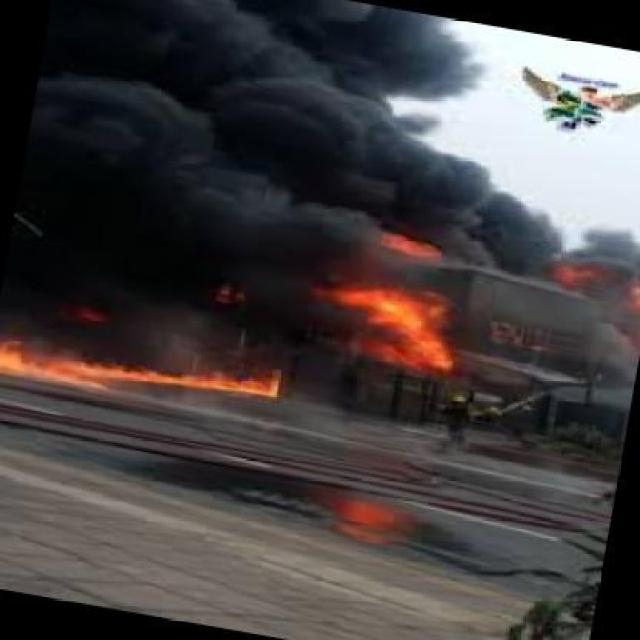Fire: (0, 328, 285, 402), (296, 269, 466, 386)
Smoke: (0, 1, 306, 320), (286, 10, 548, 276), (558, 218, 640, 342)
